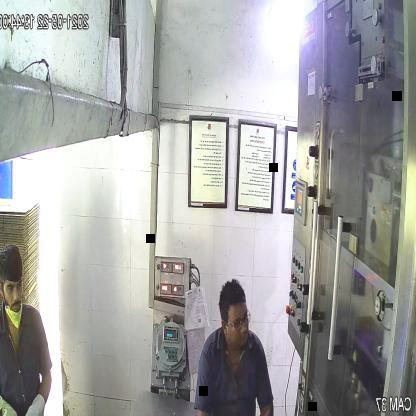goggles: (223, 311, 253, 333)
no_goggles: (0, 277, 26, 297)
